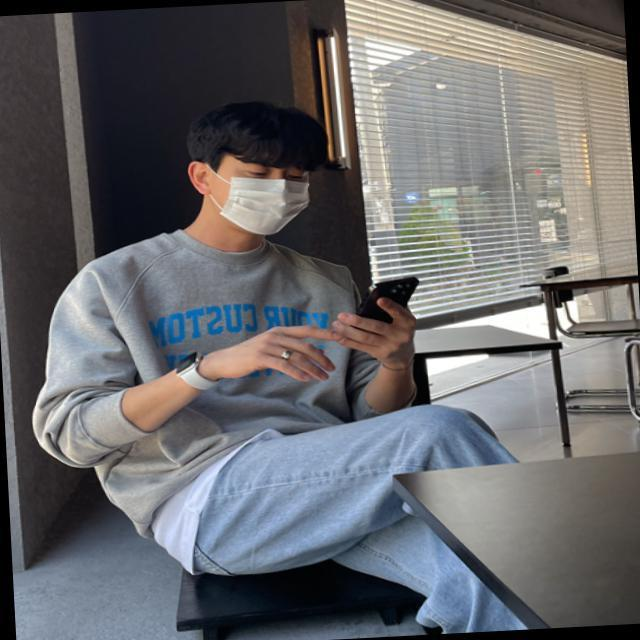sweater: (32, 229, 422, 540)
trousers: (174, 399, 541, 640)
